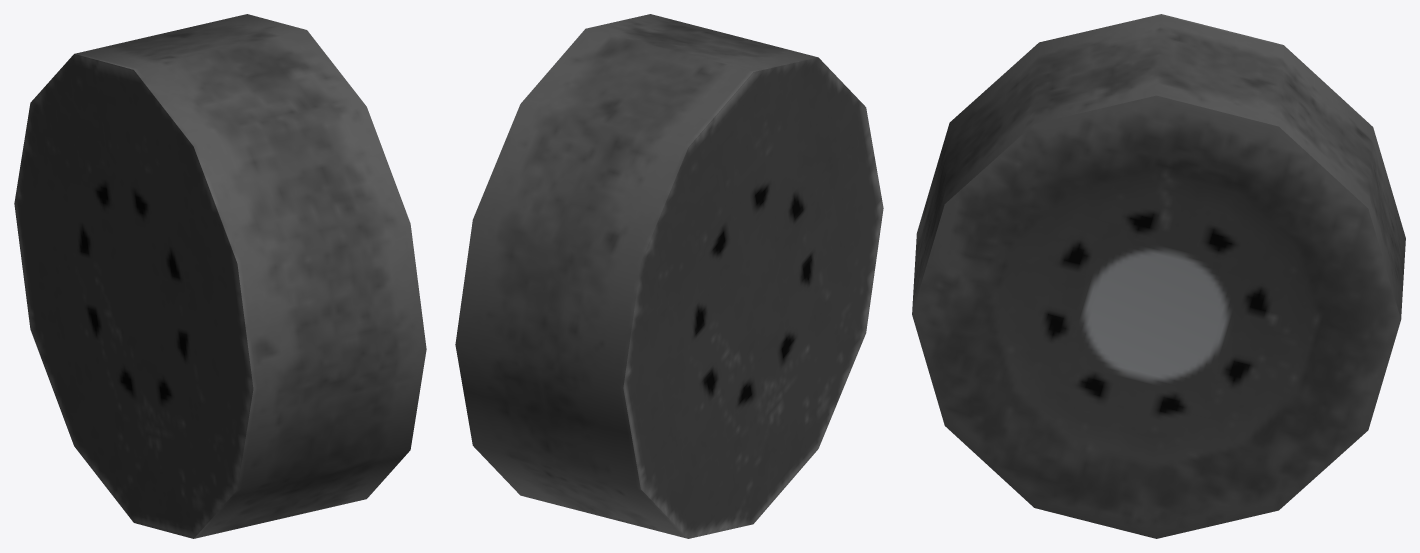
The model's file is llantaDerAtr.obj.
3 views of the same model, side by side, from view 1: azimuth 30°, elevation 25°; view 2: azimuth 150°, elevation 25°; view 3: azimuth 270°, elevation 25° (orthographic). The views are drawn at different scales.
Visible parts, largest first — view 1: llanta2; view 2: llanta2; view 3: llanta2.
Part boxes in pixels (x1,y1,x2,y2): llanta2: [14, 14, 426, 538]; llanta2: [455, 14, 883, 538]; llanta2: [912, 14, 1405, 538].
Size of the model in its own units: 1.84 by 4.22 by 4.26.
Materials: 1 (1 with a texture image).
